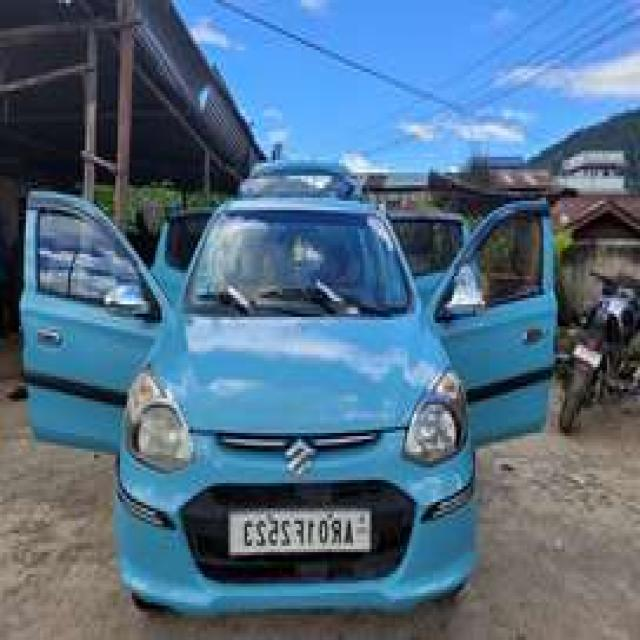license_plate: (225, 502, 375, 558)
